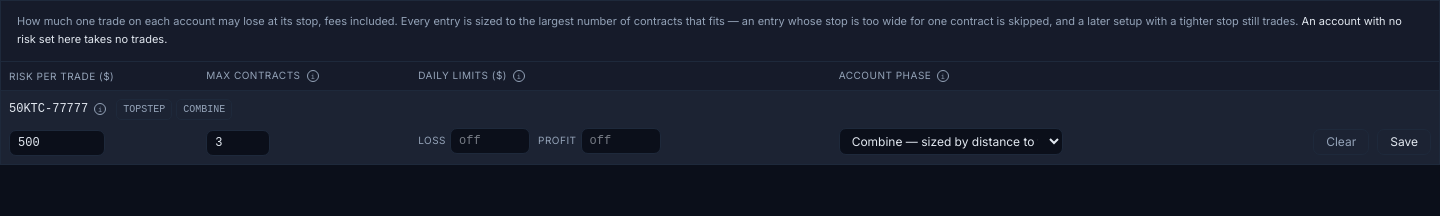
Test case: AccountRiskBlock — the account phase › shows the two rule parameters for the phases that read them, and only those
Select "Combine — sized by distance to the trailing floor" in the dropdown named "Account phase for 50KTC-77777". click: (951, 141)
box: [839,128,1063,155]
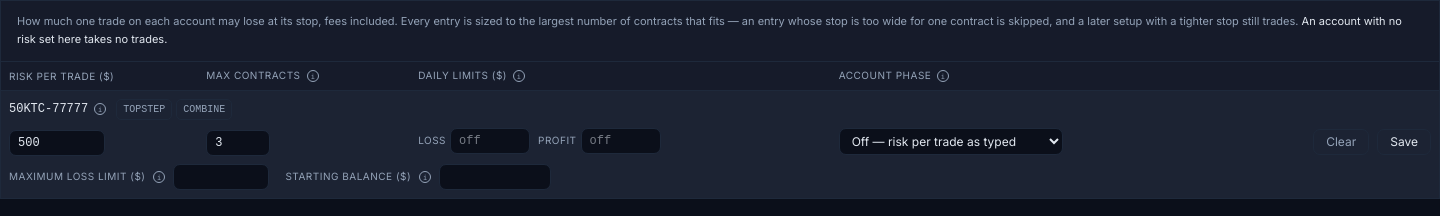
Expected: the number field labelled "Maximum loss limit ($)" is shown, [174,164,270,190]
Expected: the number field labelled "Starting balance ($)" is shown, [439,164,551,190]
Select "Off — risk per trade as typed" in the dropdown named "Account phase for 50KTC-77777". click: (951, 141)
box: [839,128,1063,155]
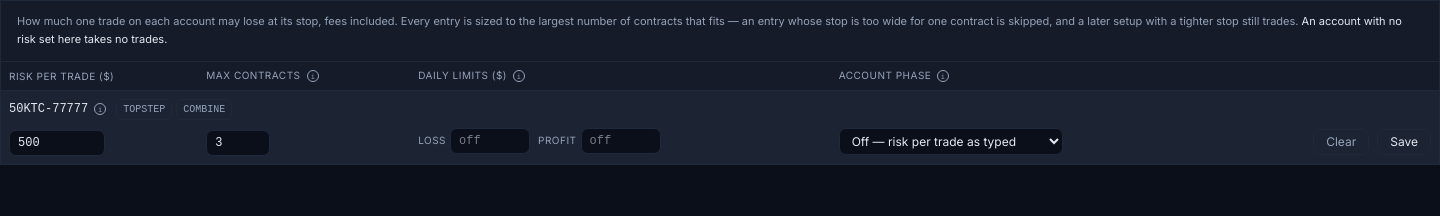
Expected: the label is gone
